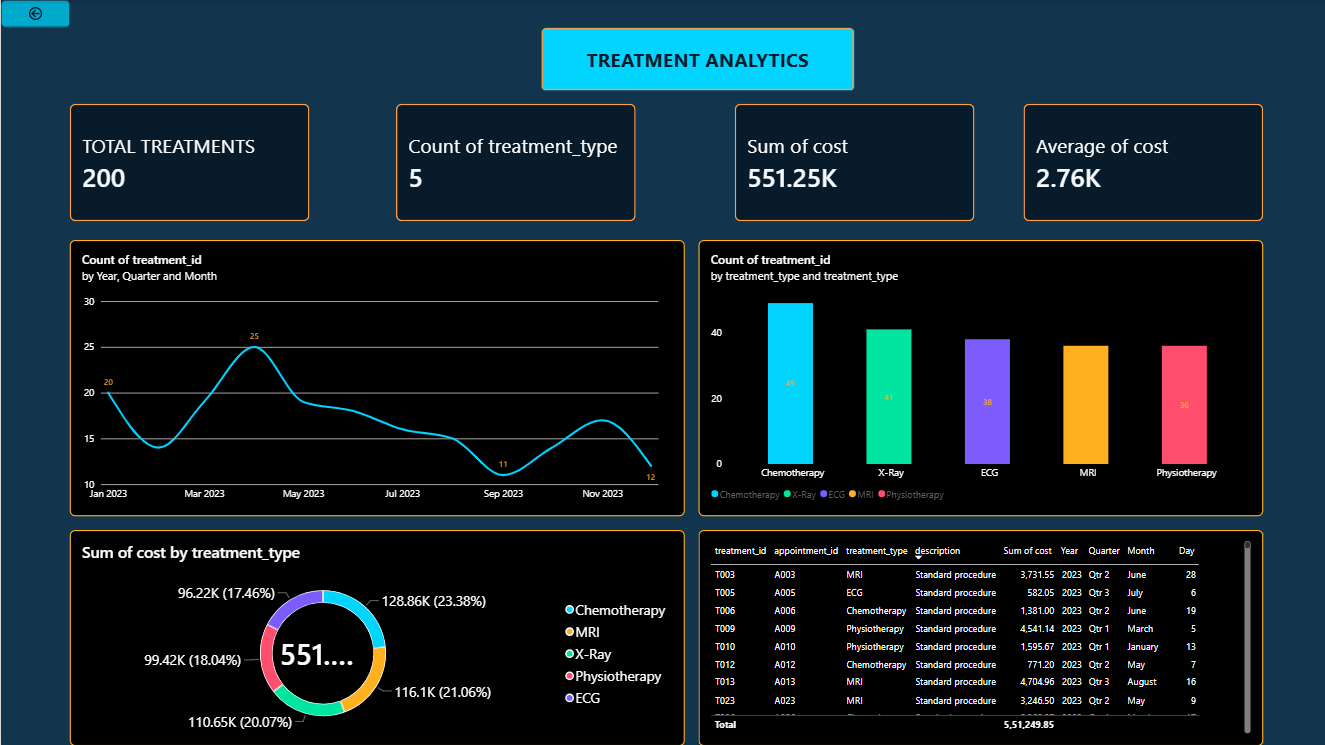

Layout of this report page (visuals, bound fields, positions):
{"tool":"powerbi","page":{"name":"Treatments","canvas":[1920,1080],"ordinal":4},"visuals":[{"type":"shape","box":[782.5,40,454,92],"z":0},{"type":"cardVisual","fields":{"Data":["CountNonNull(healthcare_db treatments.treatment_id)"]},"box":[100,150,347.5,170],"z":1000},{"type":"cardVisual","fields":{"Data":["Count(healthcare_db treatments.treatment_type)"]},"box":[572.5,150,347.5,170],"z":2000},{"type":"cardVisual","fields":{"Data":["Sum(healthcare_db treatments.cost)"]},"box":[1062.5,150,347.5,170],"z":3000},{"type":"cardVisual","fields":{"Data":["Avg(healthcare_db treatments.cost)"]},"box":[1480,150,347.5,170],"z":4000},{"type":"lineChart","fields":{"Category":["healthcare_db treatments.treatment_date.Variation.Date Hierarchy.Year","healthcare_db treatments.treatment_date.Variation.Date Hierarchy.Quarter","healthcare_db treatments.treatment_date.Variation.Date Hierarchy.Month"],"Y":["CountNonNull(healthcare_db treatments.treatment_id)"]},"box":[100,347.5,890,400],"z":5000},{"type":"columnChart","fields":{"Category":["healthcare_db treatments.treatment_type"],"Series":["healthcare_db treatments.treatment_type"],"Y":["CountNonNull(healthcare_db treatments.treatment_id)"]},"box":[1010,347.5,817.5,400],"z":6000},{"type":"donutChart","fields":{"Category":["healthcare_db treatments.treatment_type"],"Y":["Sum(healthcare_db treatments.cost)"]},"box":[100,768,890,312.5],"z":7000},{"type":"tableEx","fields":{"Values":["healthcare_db treatments.treatment_id","healthcare_db treatments.appointment_id","healthcare_db treatments.treatment_type","healthcare_db treatments.description","Sum(healthcare_db treatments.cost)","healthcare_db treatments.treatment_date.Variation.Date Hierarchy.Year","healthcare_db treatments.treatment_date.Variation.Date Hierarchy.Quarter","healthcare_db treatments.treatment_date.Variation.Date Hierarchy.Month","healthcare_db treatments.treatment_date.Variation.Date Hierarchy.Day"]},"box":[1010,767.5,817.5,312.5],"z":8000},{"type":"actionButton","box":[0,0,100,40],"z":9000}]}

Visuals, with their boxes in screenshot pixels (x1, y1, x2, y2), scaled from the page's 1920x1080 canvas onto the 1325x745 screenshot:
shape: rect(540, 28, 853, 91)
cardVisual - CountNonNull(healthcare_db treatments.treatment_id): rect(69, 103, 309, 221)
cardVisual - Count(healthcare_db treatments.treatment_type): rect(395, 103, 635, 221)
cardVisual - Sum(healthcare_db treatments.cost): rect(733, 103, 973, 221)
cardVisual - Avg(healthcare_db treatments.cost): rect(1021, 103, 1261, 221)
lineChart - healthcare_db treatments.treatment_date.Variation.Date Hierarchy.Year x healthcare_db treatments.treatment_date.Variation.Date Hierarchy.Quarter: rect(69, 240, 683, 516)
columnChart - healthcare_db treatments.treatment_type x healthcare_db treatments.treatment_type: rect(697, 240, 1261, 516)
donutChart - healthcare_db treatments.treatment_type x Sum(healthcare_db treatments.cost): rect(69, 530, 683, 744)
tableEx - healthcare_db treatments.treatment_id x healthcare_db treatments.appointment_id: rect(697, 529, 1261, 744)
actionButton: rect(0, 0, 69, 28)
